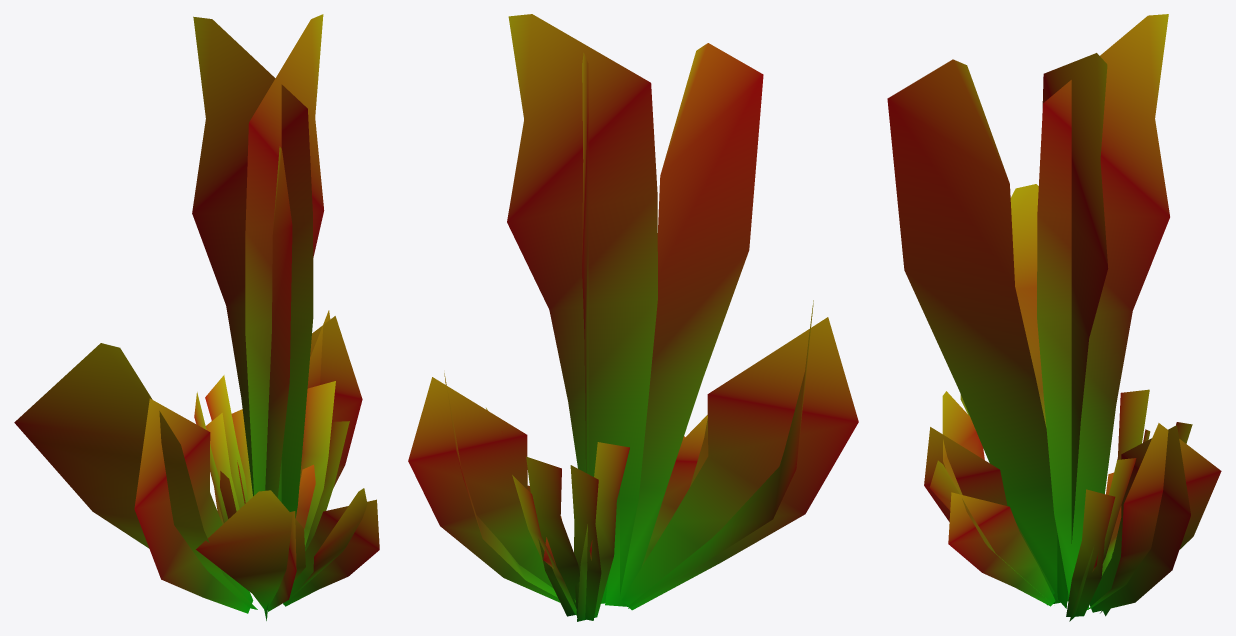
Rendered from Dead Broom Bush_LOD0_Var3_tlpjdhwia.fbx.
3 views of the same model, side by side, from view 1: azimuth 30°, elevation 25°; view 2: azimuth 150°, elevation 25°; view 3: azimuth 270°, elevation 25° (orthographic). The views are drawn at different scales.
Parts seen in each view (by area): view 1: _2a18_Var3_LOD0; view 2: _2a18_Var3_LOD0; view 3: _2a18_Var3_LOD0.
Part boxes in pixels (box(x1,y1,x2,y2)): _2a18_Var3_LOD0: box(14, 14, 379, 620); _2a18_Var3_LOD0: box(408, 14, 858, 621); _2a18_Var3_LOD0: box(887, 14, 1221, 621).
Size of the model in its own units: 26.97 by 42.1 by 21.72.
